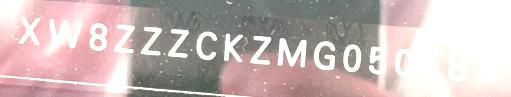letter: (48, 17, 83, 48), (275, 36, 307, 67), (111, 22, 136, 55), (139, 24, 164, 57), (165, 26, 190, 59), (249, 33, 274, 66), (16, 14, 41, 46), (312, 39, 337, 70), (446, 49, 469, 82), (194, 29, 217, 60), (474, 54, 496, 85), (87, 21, 109, 52), (222, 32, 244, 63), (341, 42, 362, 73), (367, 43, 388, 74), (393, 48, 414, 77), (425, 48, 438, 79)
